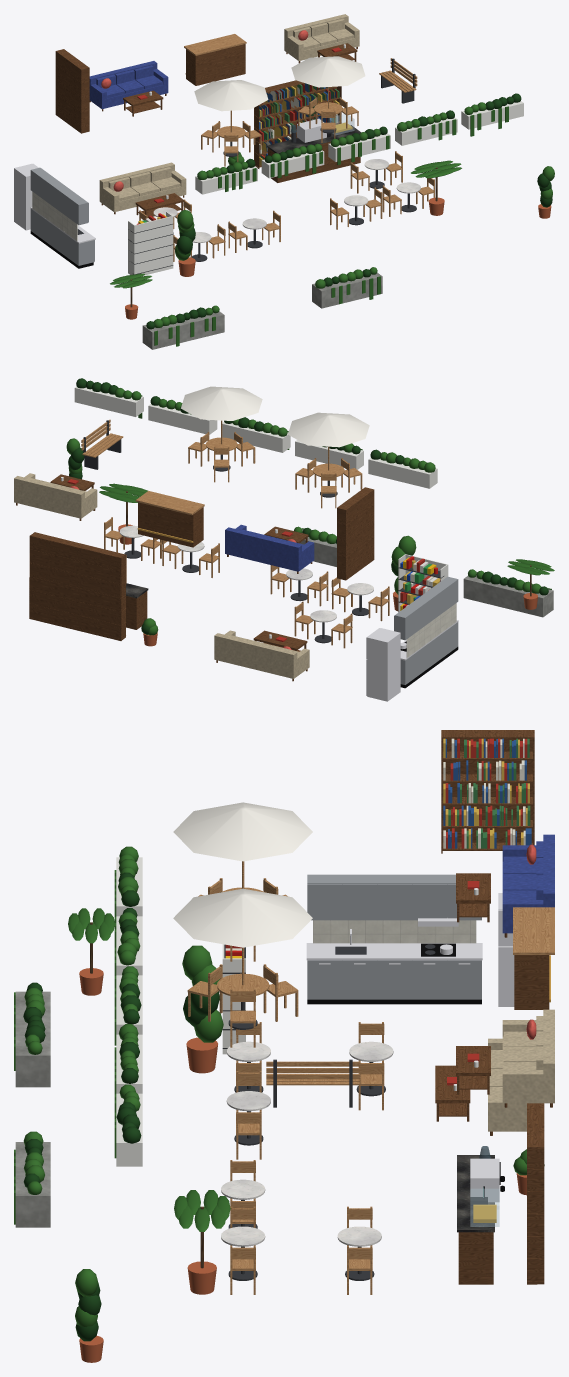
File: i_cafe_container.gltf
The picture shows the model from 3 angles, top to bottom: view 1: azimuth 30°, elevation 25°; view 2: azimuth 150°, elevation 25°; view 3: azimuth 270°, elevation 25°; orthographic projection. The views are drawn at different scales.
Visible parts, largest first — view 1: I_cafe_container; view 2: I_cafe_container; view 3: I_cafe_container.
Boxes of the visible parts, bbox=[...] form: I_cafe_container: bbox=[14, 14, 554, 349]; I_cafe_container: bbox=[14, 378, 554, 701]; I_cafe_container: bbox=[14, 730, 554, 1362].
Bounding box in the file's own units: 15.88 × 6.54 × 9.28.
Materials: 35 (11 with a texture image).
